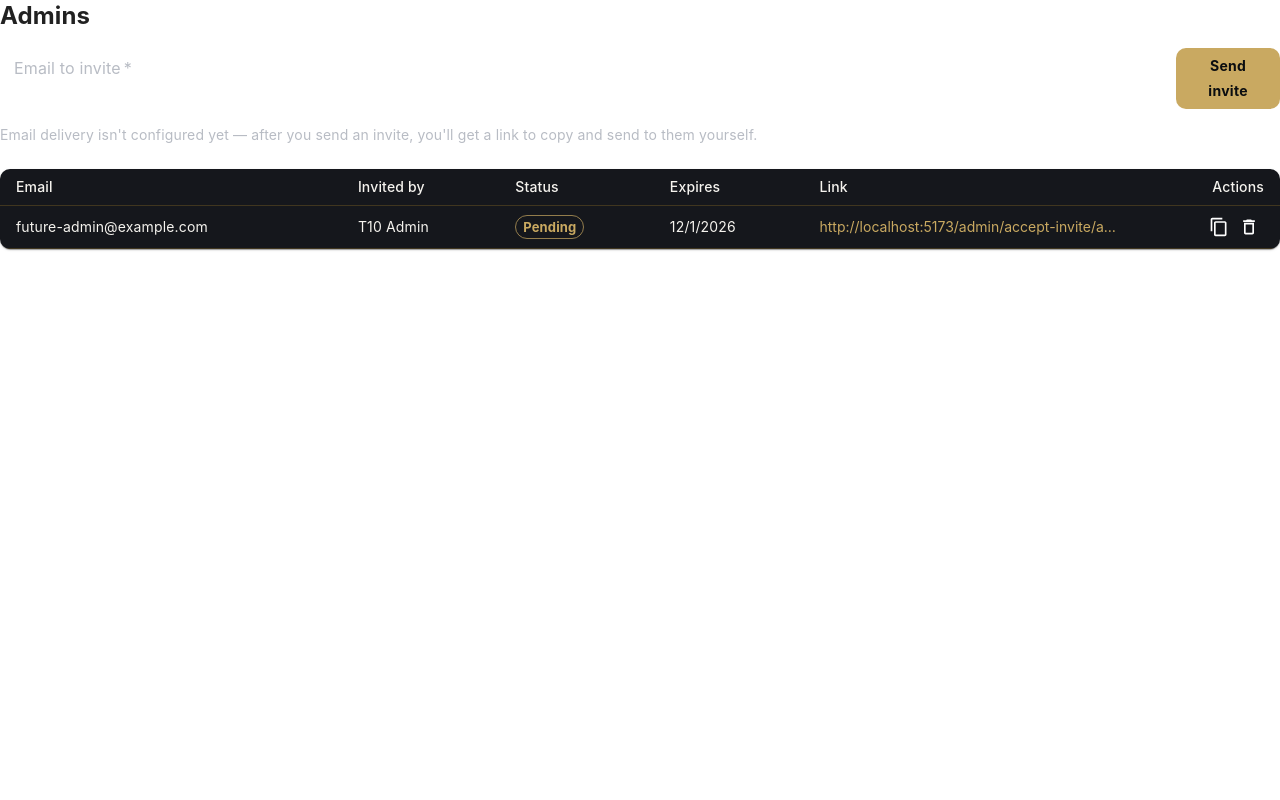
Test: AdminInvitationsPage › shows the link in the table and reopens the modal when clicked
Click the button "http://localhost:5173/admin/accept-invite/abc123". click: (972, 227)
box: [820,217,1124,237]
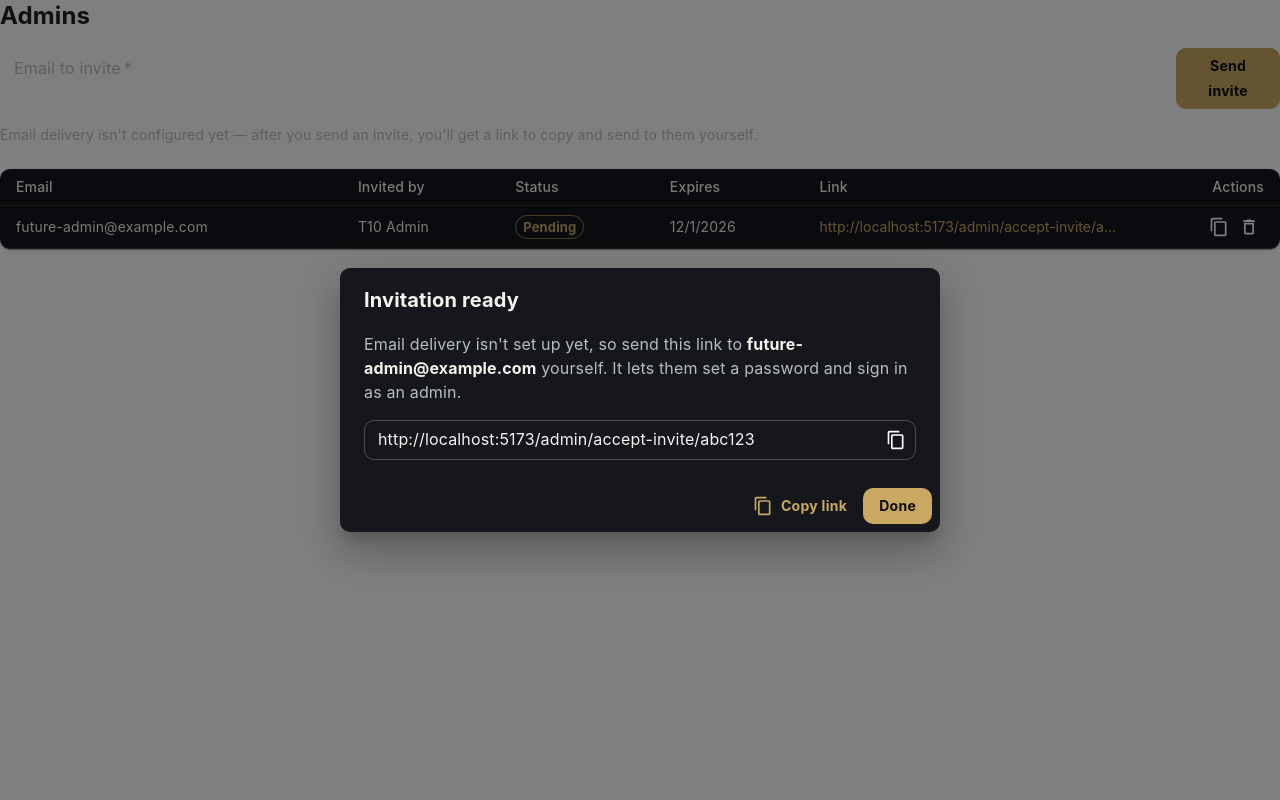
expect the heading "Invitation ready" is shown: met, box [364,288,519,312]
